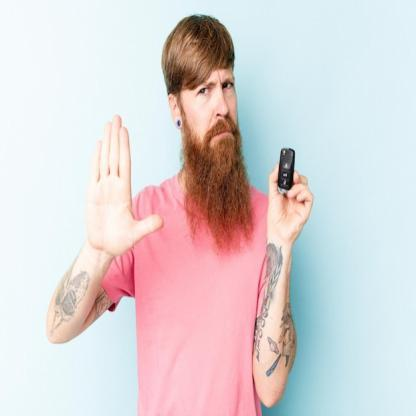stop: (84, 110, 164, 258)
